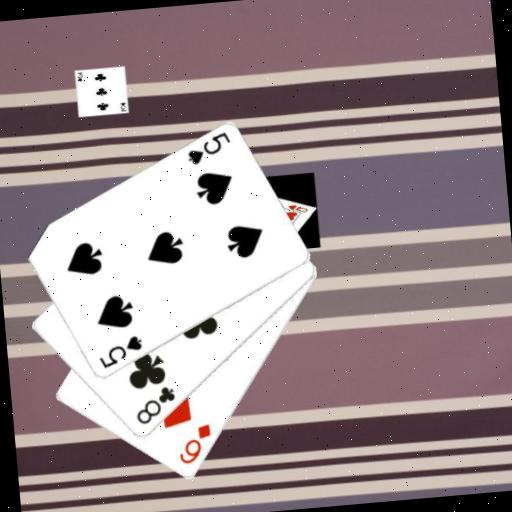5S: (94, 332, 146, 371), (183, 130, 234, 168)
6D: (174, 420, 216, 467)
8C: (130, 383, 179, 427)
